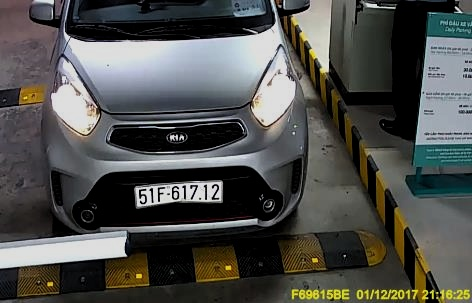plate: (132, 179, 224, 209)
